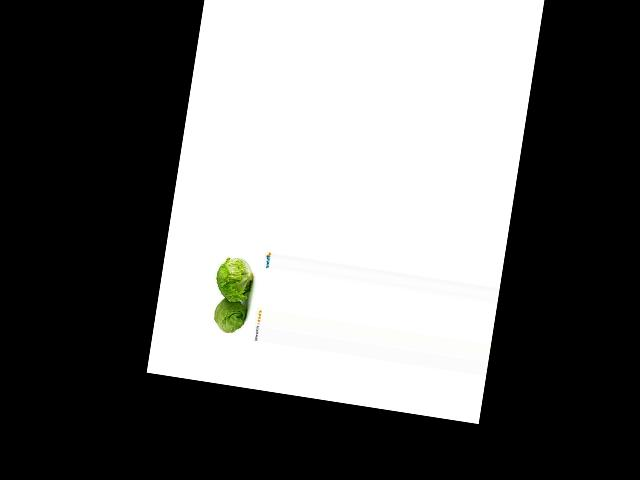lettuce: (211, 287, 257, 337)
